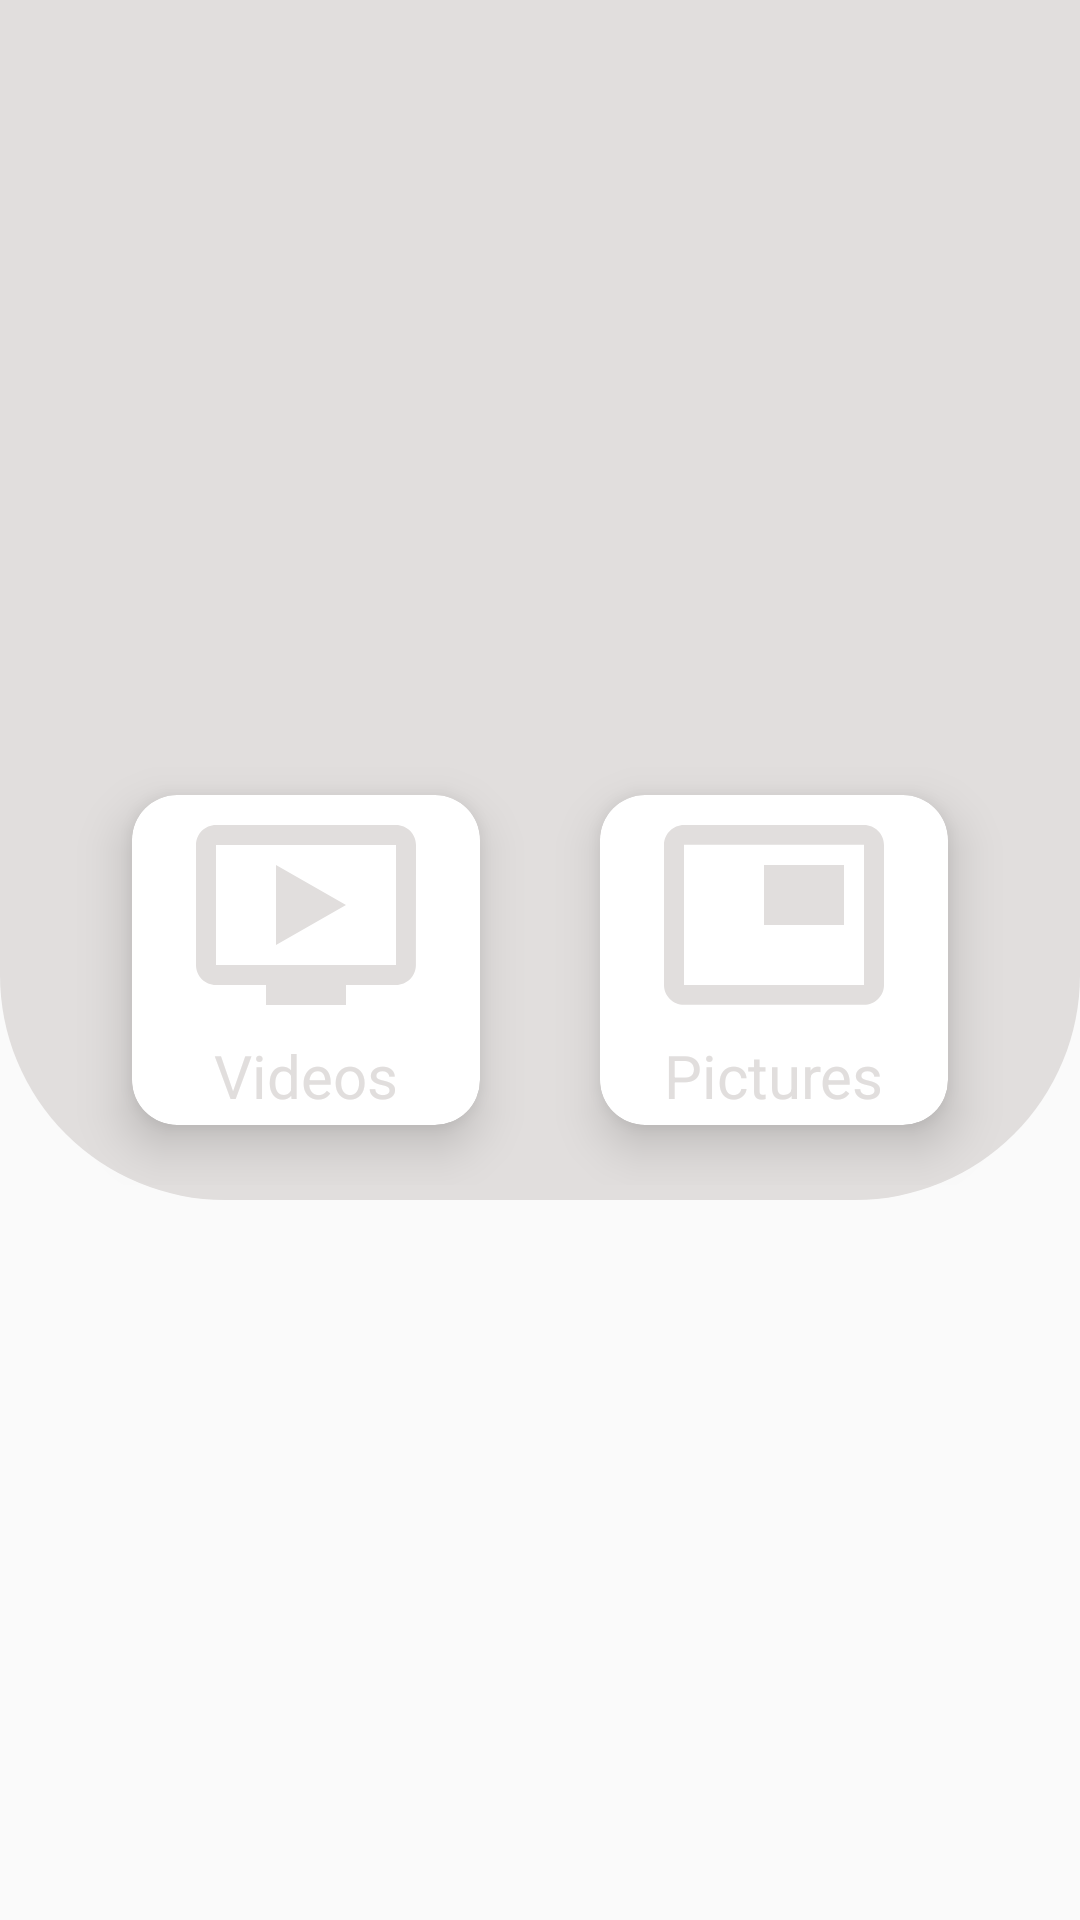

Named icons in this screenshot (1080px×1920px) and their centers, (x,y):
picture in: (774,915)
